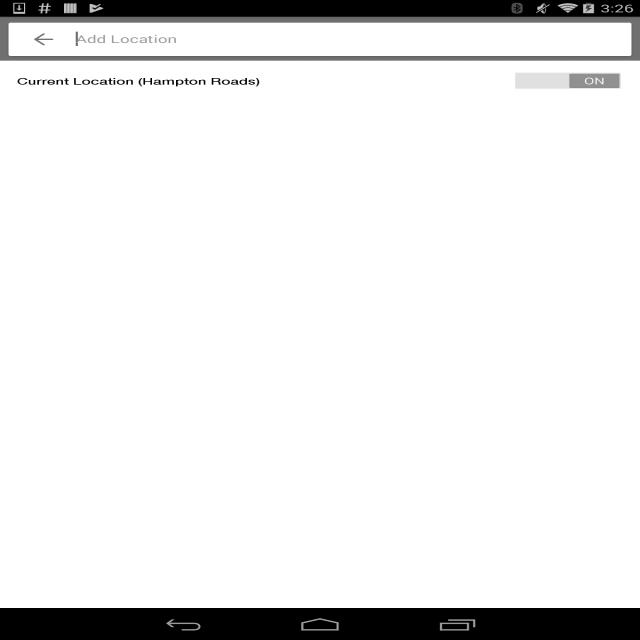EditText: (76, 27, 622, 51)
ImageButton: (18, 24, 69, 56)
Switch: (17, 71, 623, 90)
